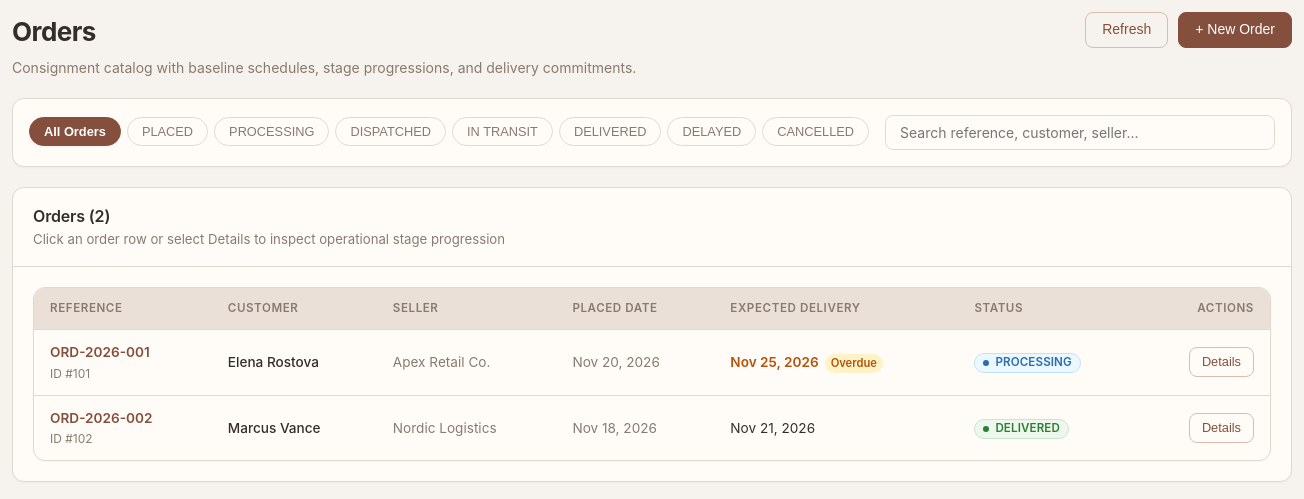
OrdersPage Component › filters orders with search query input
Check: the text "ORD-2026-001" is shown, box [50,344,150,360]
Type "Marcus" into the field with placeholder "Search reference, customer, seller..." at x=1080, y=132, box [885,115,1275,150]
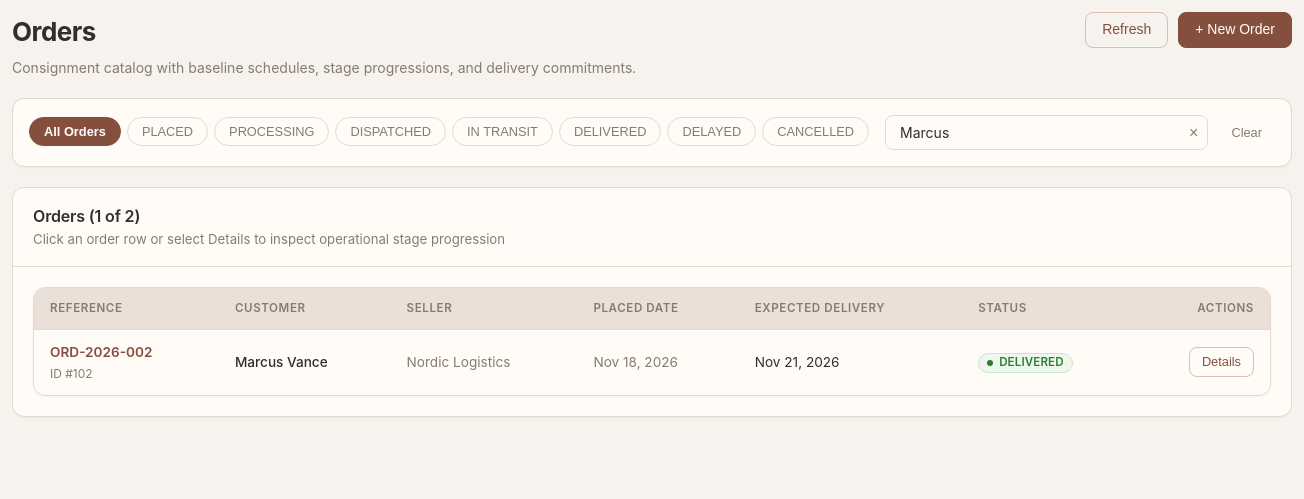
Check: the text "ORD-2026-002" is shown, box [50,344,152,360]
Check: the text "ORD-2026-001" is gone
